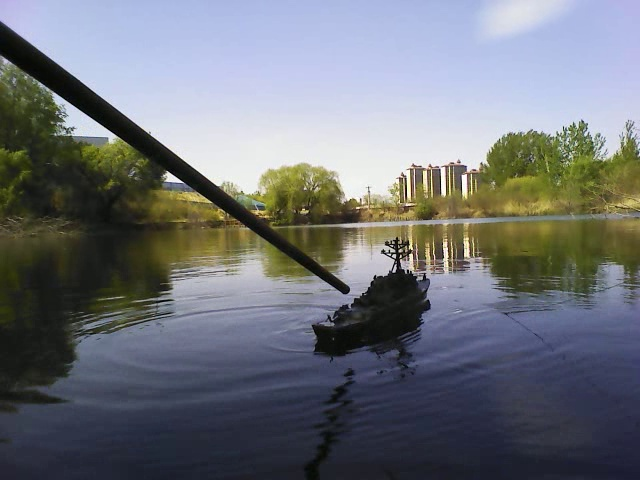warship: (302, 237, 431, 343)
